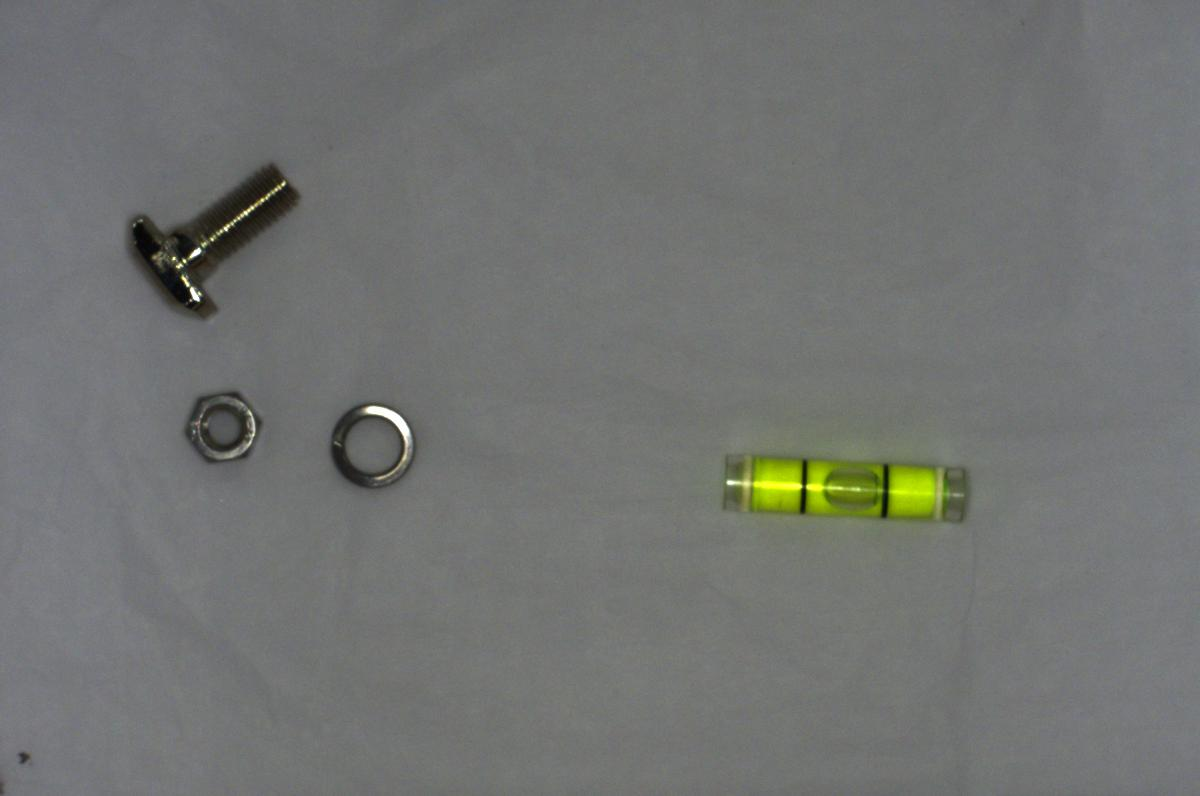Hexagon nut: (161, 383, 259, 470)
Horizontal bubble: (705, 436, 986, 543)
Spring washer: (311, 394, 425, 503)
T-shaped screw: (104, 153, 310, 332)
